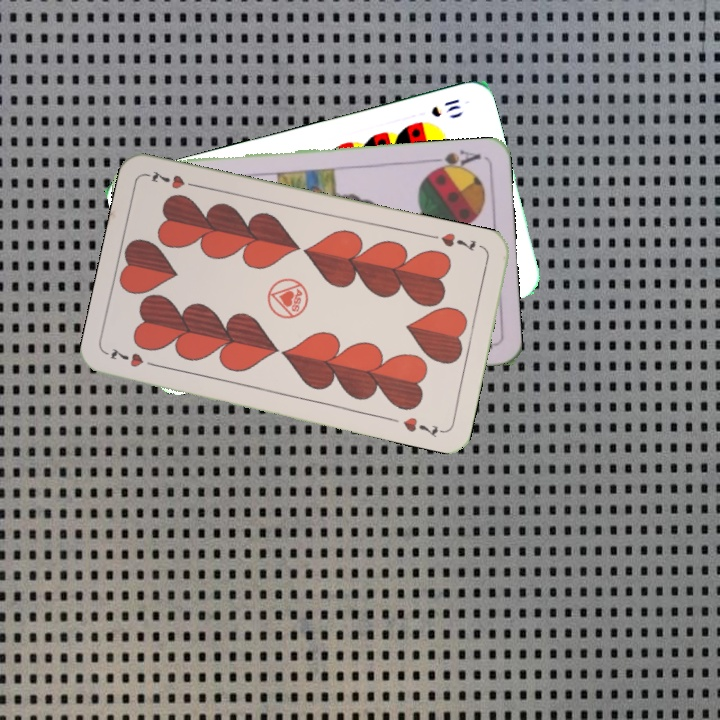H7: (104, 344, 162, 370), (437, 228, 479, 254)
S10: (427, 95, 463, 120)
SA: (425, 146, 483, 175)
